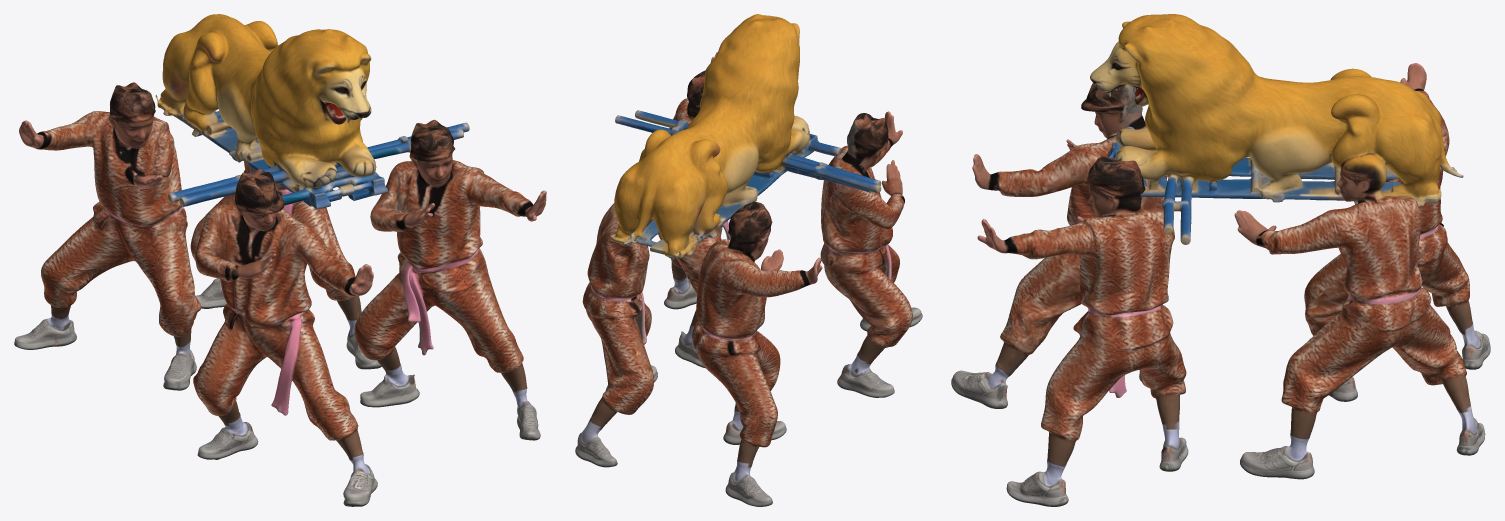
File: tepak 2.glb
3 renders of one model, left to right at view 1: azimuth 30°, elevation 25°; view 2: azimuth 150°, elevation 25°; view 3: azimuth 270°, elevation 25°, orthographic. The views are drawn at different scales.
Parts seen in each view (by area): view 1: mesh_node; view 2: mesh_node; view 3: mesh_node.
Part boxes in pixels (left/top/right/bottom): mesh_node: left=14, top=14, right=546, bottom=506; mesh_node: left=575, top=14, right=922, bottom=506; mesh_node: left=951, top=14, right=1490, bottom=506.
Bounding box in the file's own units: 1.46 × 1.6 × 1.9.
1 material, 1 textured.
